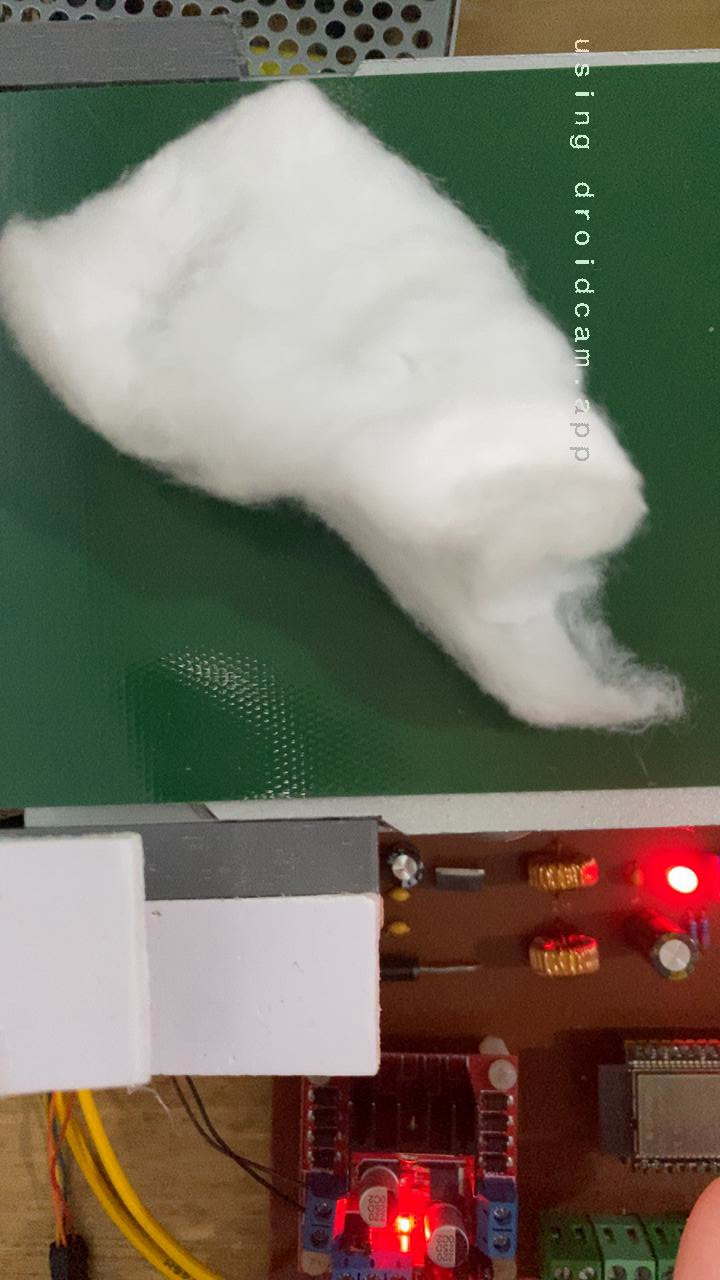cotton: (0, 71, 692, 744)
